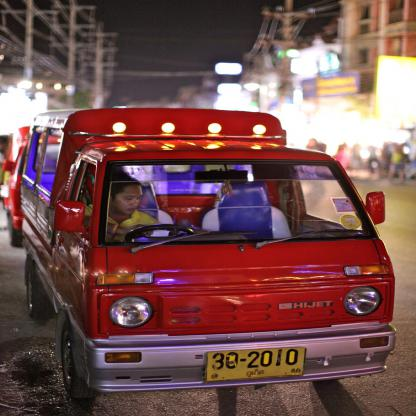Truck: (14, 111, 385, 401)
